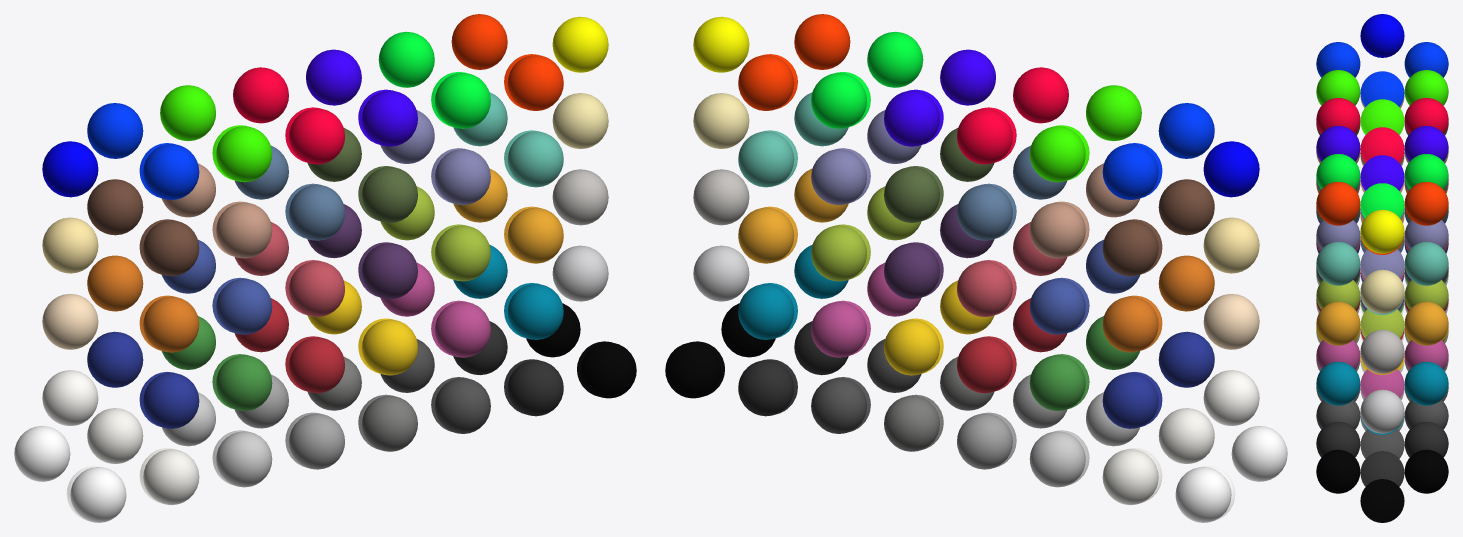
Rendered from MacbethBalls.glb.
3 renders of one model, left to right at view 1: azimuth 30°, elevation 25°; view 2: azimuth 150°, elevation 25°; view 3: azimuth 270°, elevation 25°, orthographic. The views are drawn at different scales.
Parts seen in each view (by area): view 1: wrapper; view 2: wrapper; view 3: wrapper.
Boxes of the visible parts, x1=… form: wrapper: x1=14, y1=14, x2=636, y2=522; wrapper: x1=665, y1=14, x2=1287, y2=522; wrapper: x1=1316, y1=14, x2=1448, y2=522.
Size of the model in its own units: 0.48 by 0.3 by 0.12.
